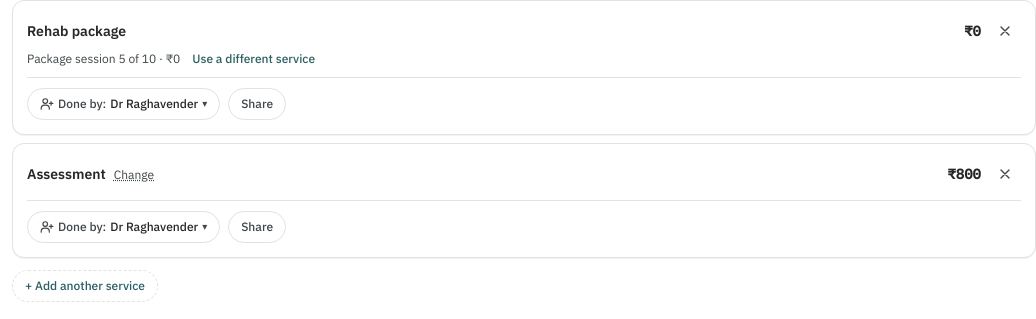
Test: ServiceRows › guardrail shows when the package row is removed
expect the text "Open package:" is not shown: met
Click the button named "Remove Rehab package": (1005, 31) [989,15,1021,47]
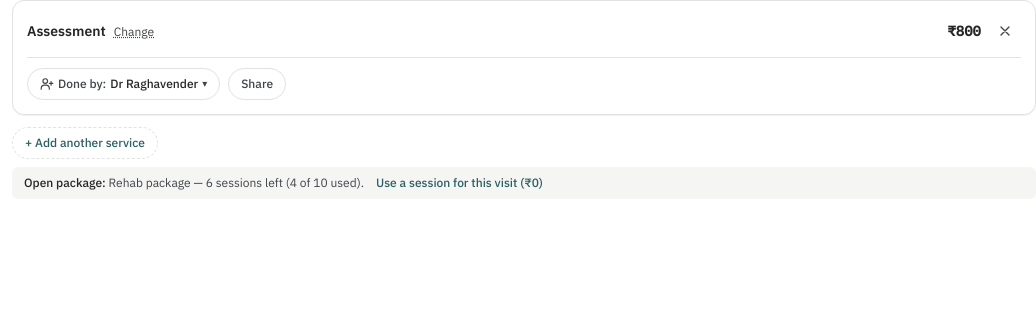
expect the text "Open package:" is shown: met, box [24,175,106,190]
